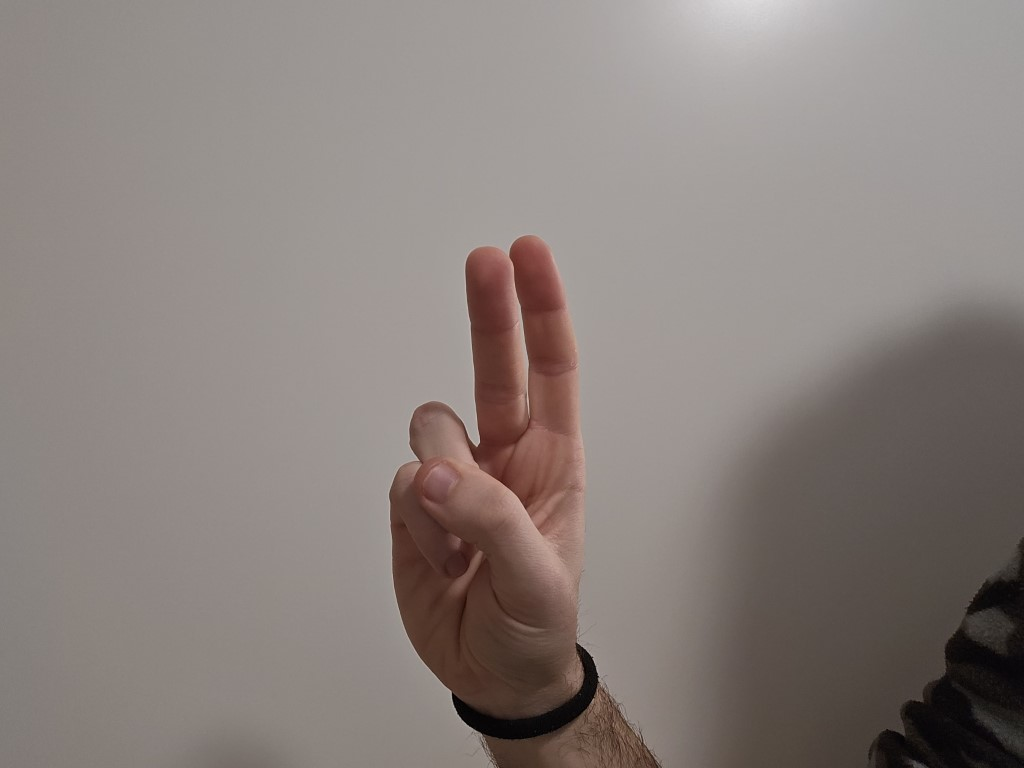r: (362, 235, 606, 699)
